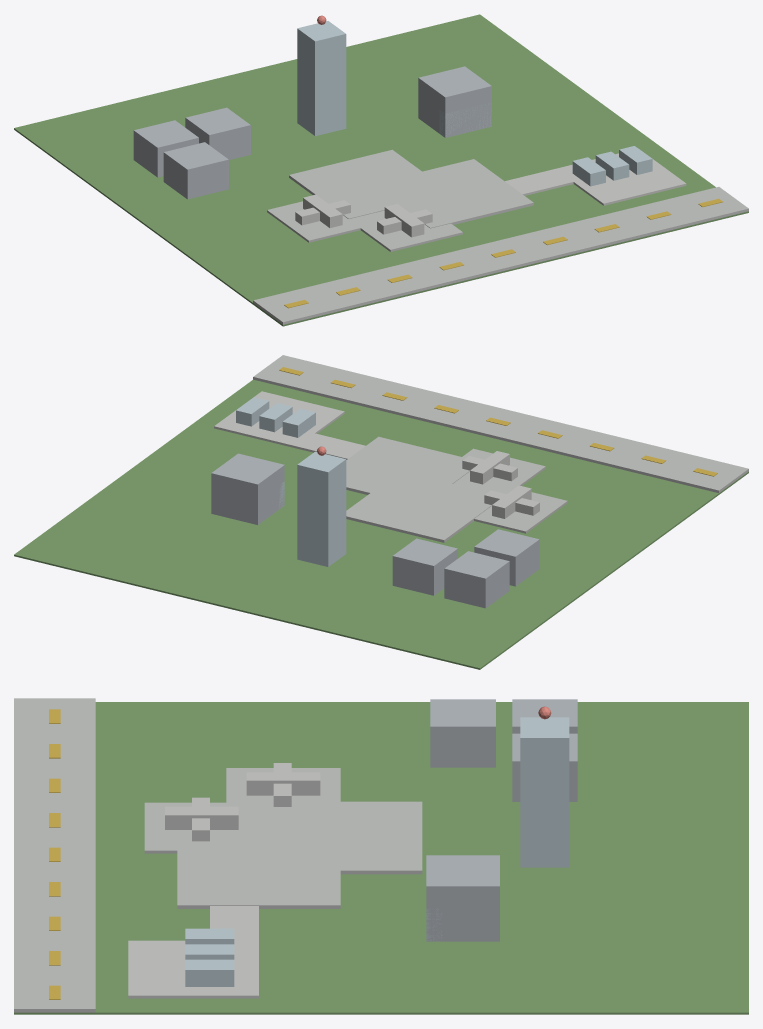
The model's file is stage_11.glb.
The picture shows the model from 3 angles, top to bottom: view 1: azimuth 30°, elevation 25°; view 2: azimuth 150°, elevation 25°; view 3: azimuth 270°, elevation 25°; orthographic projection. The views are drawn at different scales.
Visible parts, largest first — view 1: geometry_0; view 2: geometry_0; view 3: geometry_0.
Boxes of the visible parts, x1=… form: geometry_0: x1=14, y1=14, x2=748, y2=326; geometry_0: x1=14, y1=355, x2=748, y2=669; geometry_0: x1=14, y1=698, x2=748, y2=1014.
Bounding box in the file's own units: 9 × 2.06 × 9.
